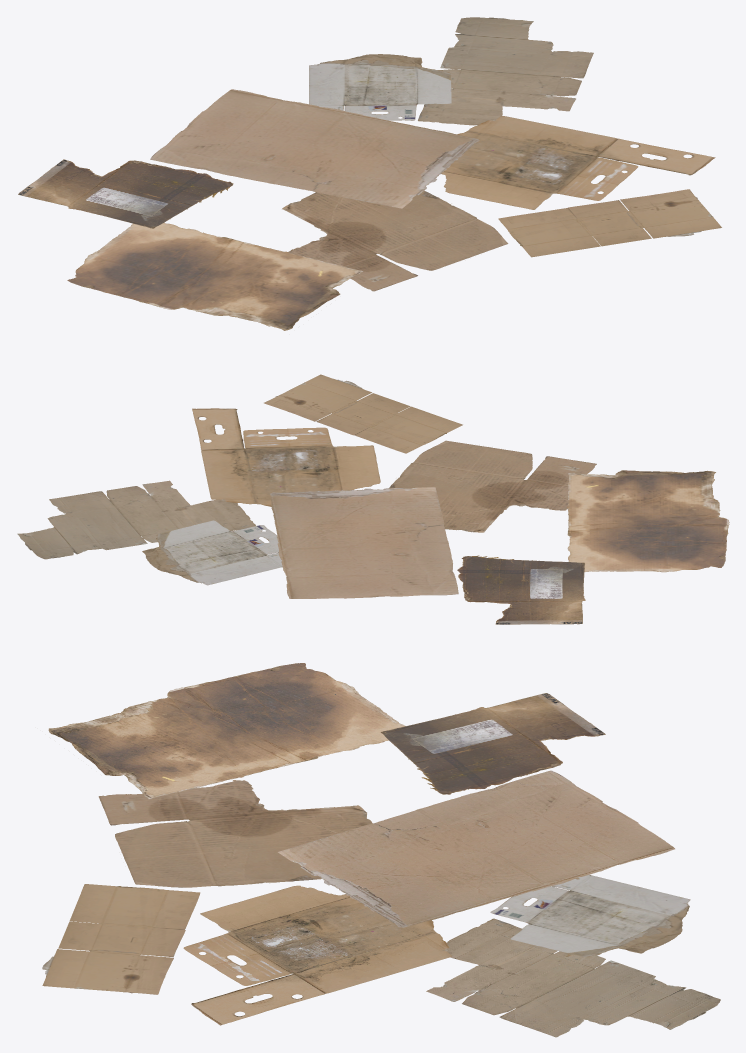
Rendered from SM_Cardboard_03.glb.
3 renders of one model, top to bottom at view 1: azimuth 30°, elevation 25°; view 2: azimuth 150°, elevation 25°; view 3: azimuth 270°, elevation 25°, orthographic. The views are drawn at different scales.
Parts seen in each view (by area): view 1: SM_Cardboard_03; view 2: SM_Cardboard_03; view 3: SM_Cardboard_03.
Part boxes in pixels (x1,y1,x2,y2): SM_Cardboard_03: (18, 17, 721, 330); SM_Cardboard_03: (17, 374, 729, 624); SM_Cardboard_03: (42, 663, 720, 1037).
Bounding box in the file's own units: 2.63 × 0.0141 × 2.09.
Materials: 1 (1 with a texture image).
